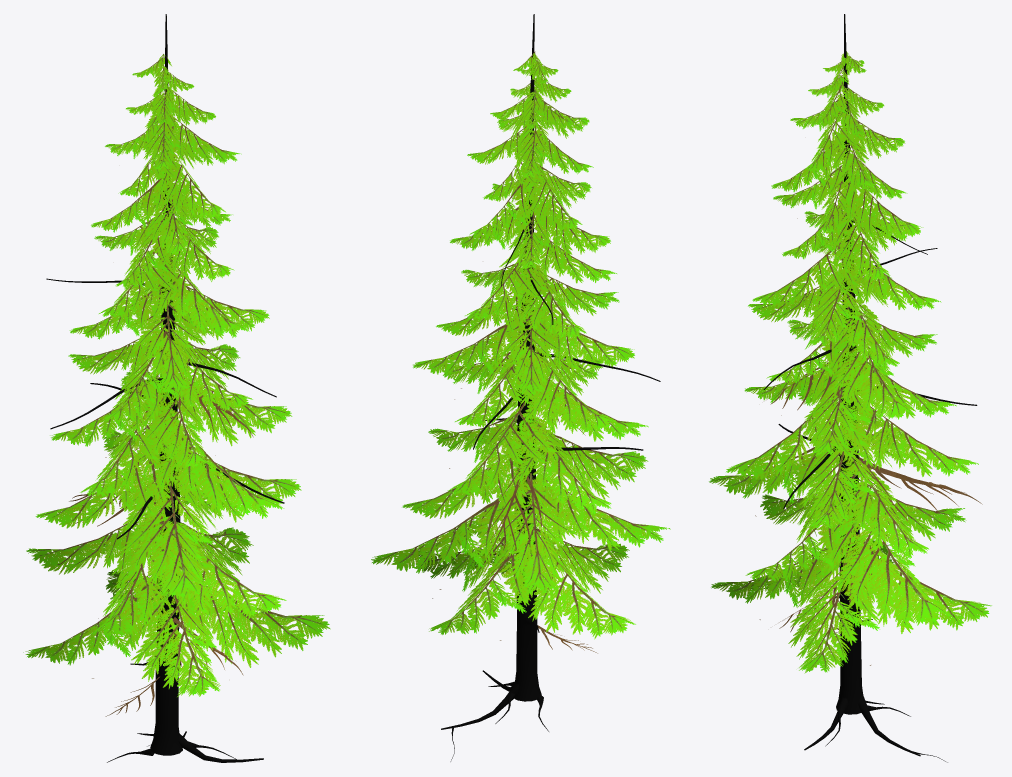
Rendered from Spruce_Tree_V4.fbx.
The picture shows the model from 3 angles, left to right: view 1: azimuth 30°, elevation 25°; view 2: azimuth 150°, elevation 25°; view 3: azimuth 270°, elevation 25°; orthographic projection. The views are drawn at different scales.
Visible parts, largest first — view 1: Spruce_Tree_V4_LOD0; view 2: Spruce_Tree_V4_LOD0; view 3: Spruce_Tree_V4_LOD0.
Part boxes in pixels (left/top/right/bottom): Spruce_Tree_V4_LOD0: left=23, top=14, right=330, bottom=762; Spruce_Tree_V4_LOD0: left=371, top=14, right=670, bottom=761; Spruce_Tree_V4_LOD0: left=709, top=14, right=991, bottom=762.
Size of what is drawn, in the model's own units: 269 by 713 by 261.
